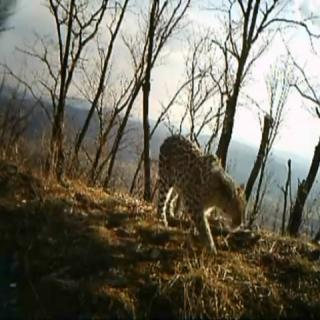Leopard: (148, 101, 256, 282)
